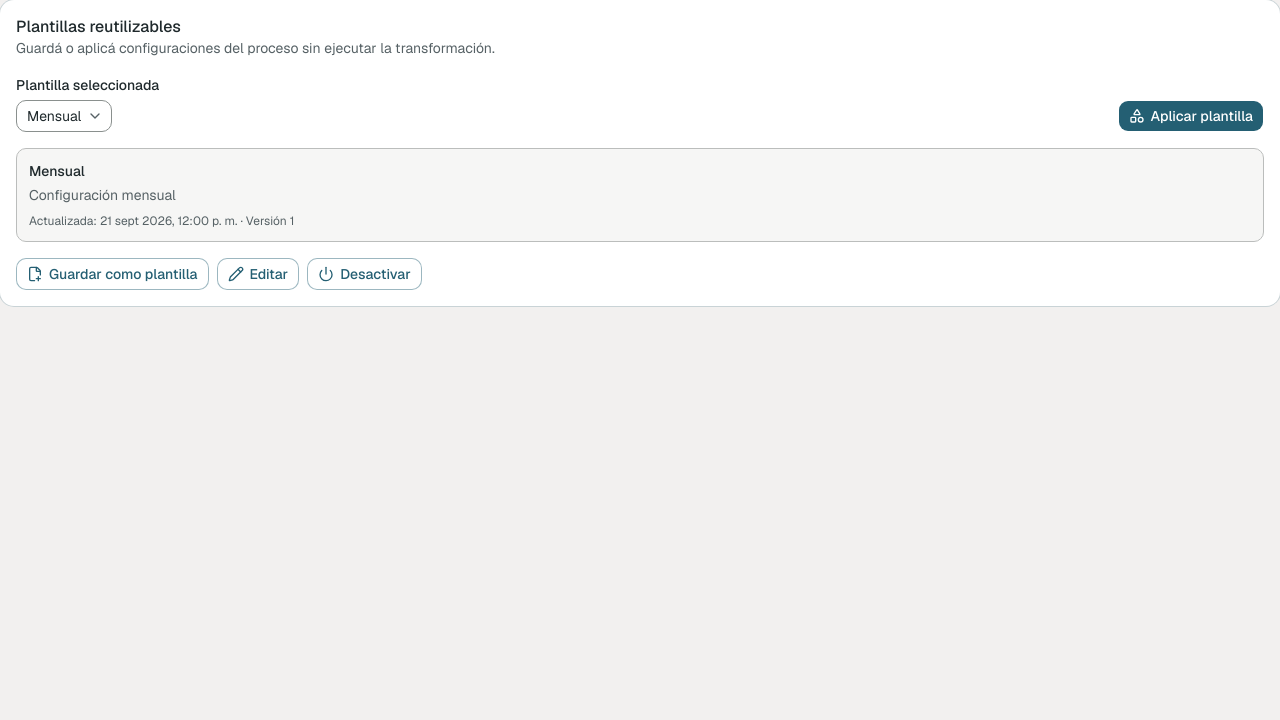
TransformationTemplatesPanel › expone edición y desactivación sólo para administradores
Click the button "Editar".
click(258, 274)  # box [216,258,299,290]
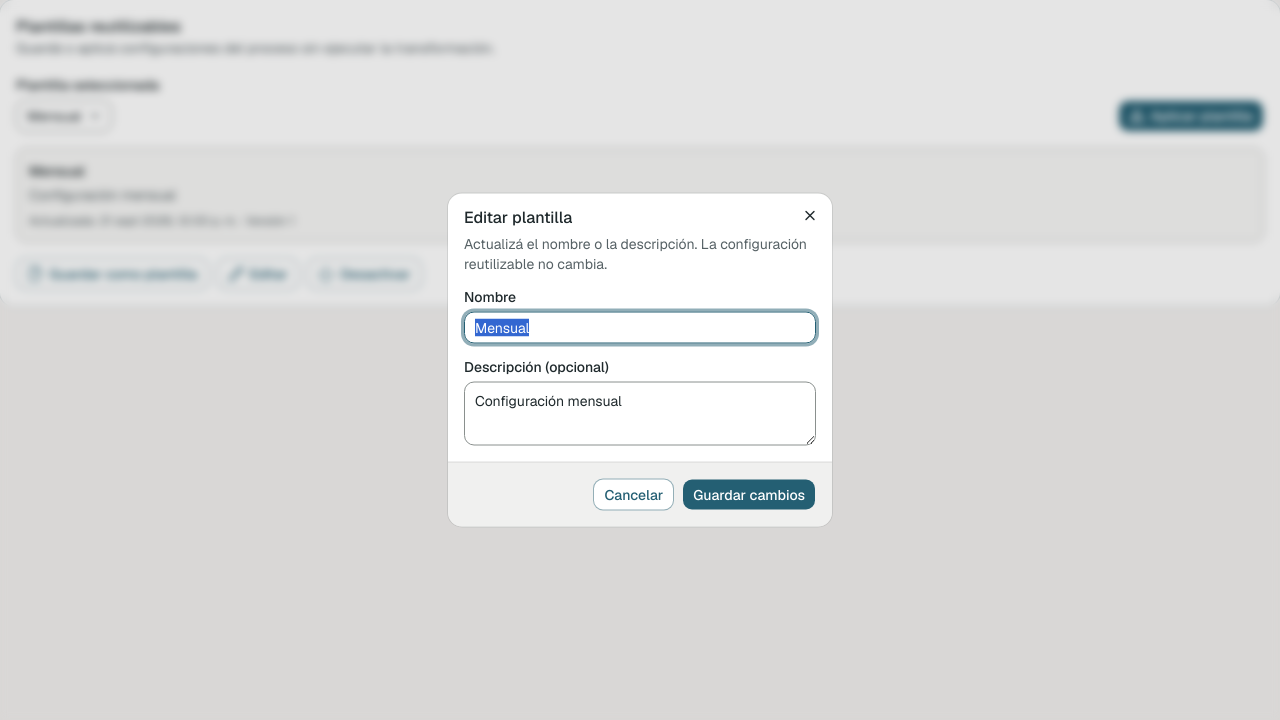
Expected: the heading "Editar plantilla" is shown, [464,206,572,228]
Click the button "Cancelar".
click(634, 494)  # box [593,478,674,510]
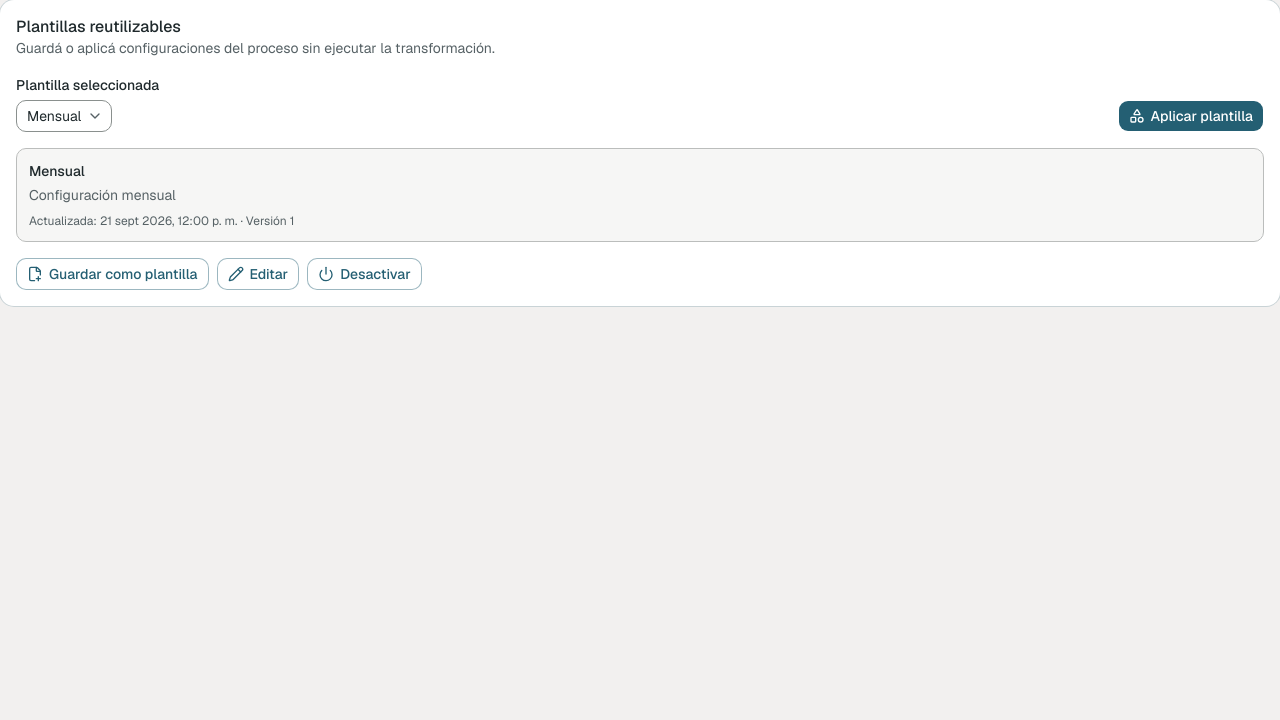
Click the button "Desactivar".
click(364, 274)  # box [307,258,422,290]
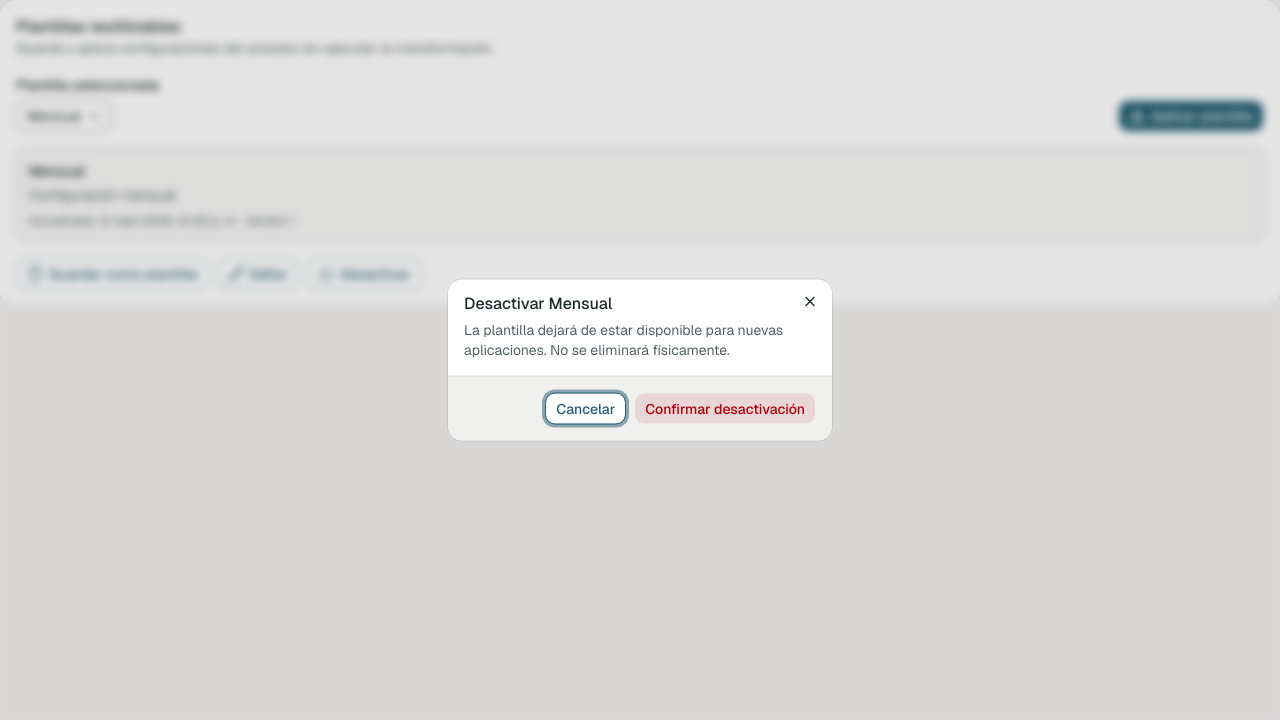
Expected: the text "No se eliminará físicamente" is shown, [464,320,783,358]
